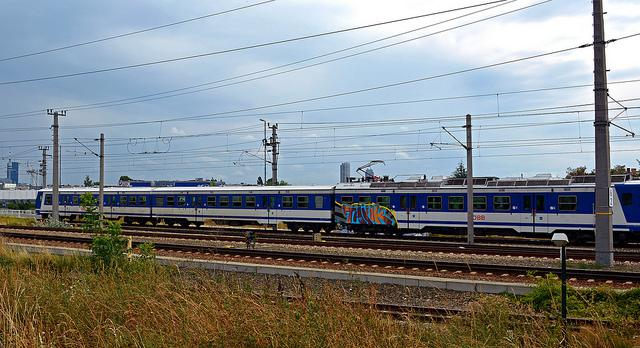Train: (37, 181, 640, 238)
